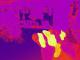Foc: (34, 25, 70, 51)
